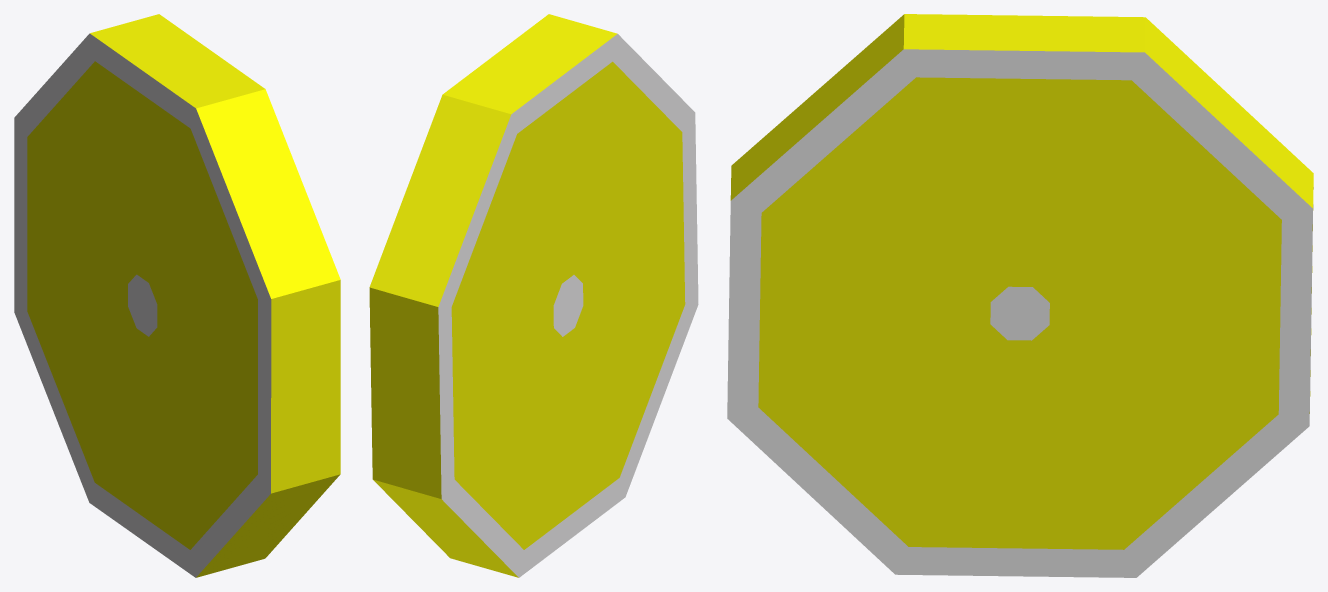
The model's file is lemon03.gltf.
The picture shows the model from 3 angles, left to right: view 1: azimuth 30°, elevation 25°; view 2: azimuth 150°, elevation 25°; view 3: azimuth 270°, elevation 25°; orthographic projection. The views are drawn at different scales.
Parts seen in each view (by area): view 1: Cylinder; view 2: Cylinder; view 3: Cylinder.
Boxes of the visible parts, bbox=[...] form: Cylinder: bbox=[14, 14, 340, 577]; Cylinder: bbox=[369, 14, 698, 577]; Cylinder: bbox=[727, 14, 1313, 577].
Size of the model in its own units: 0.00868 by 0.0533 by 0.0531.
1 material, 1 textured.
